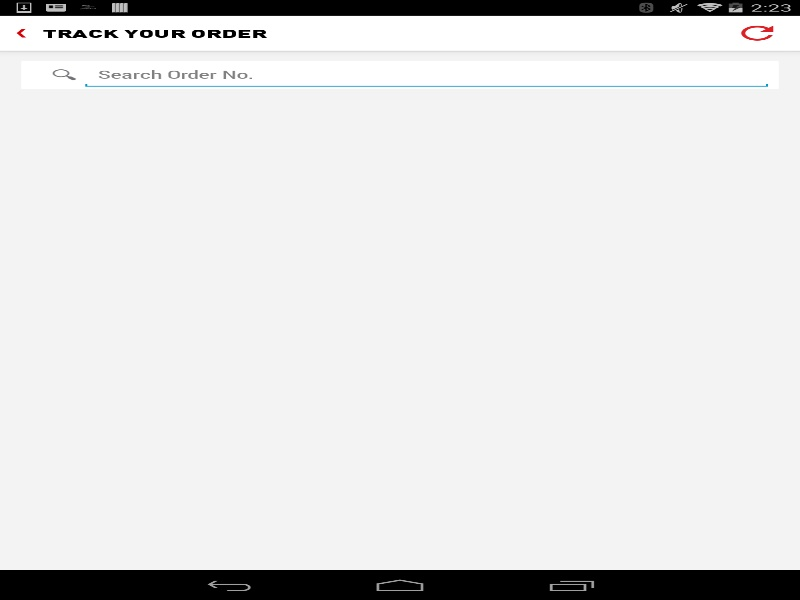Input: (87, 63, 766, 85)
